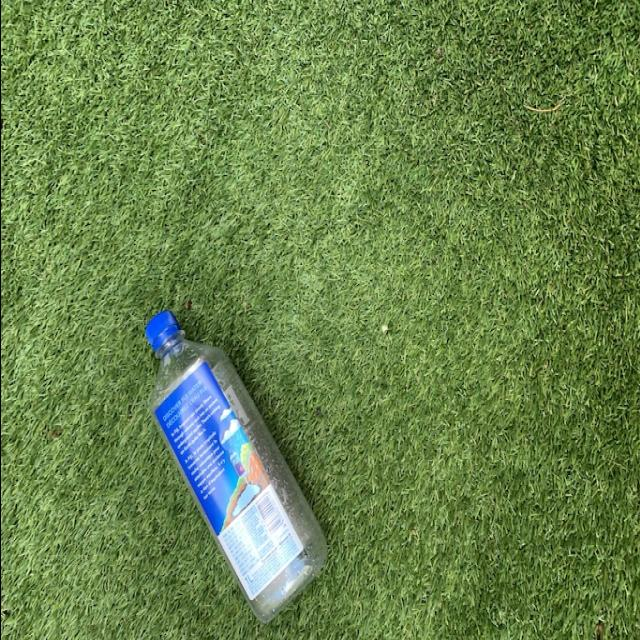PET: (142, 308, 326, 628)
